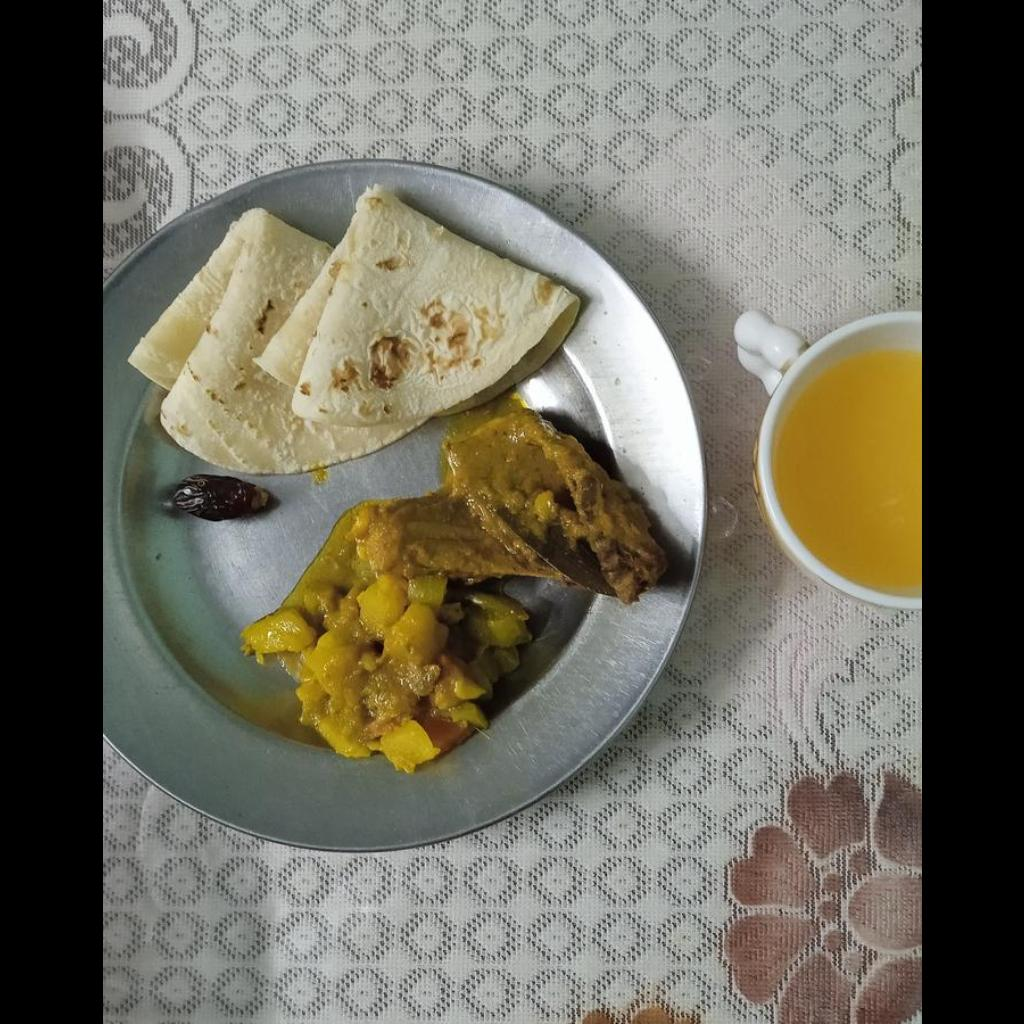chicken: (365, 407, 656, 602)
dates: (155, 474, 276, 527)
juice: (769, 347, 920, 592)
ruti: (130, 184, 587, 477)
vegetable: (236, 542, 487, 757)
